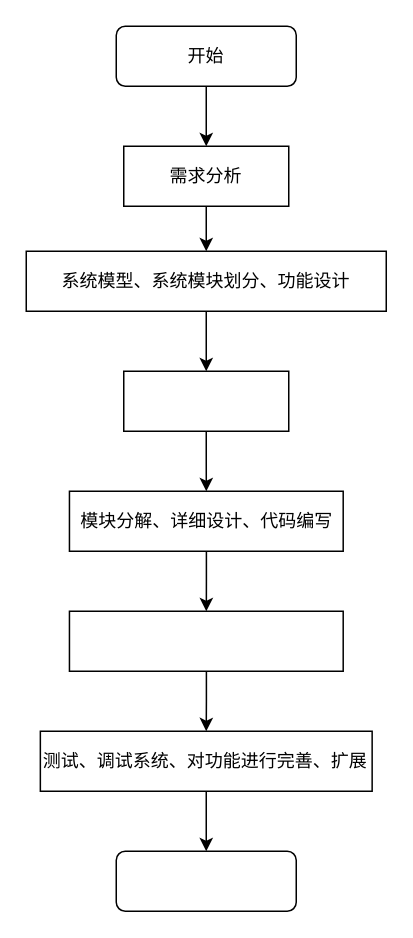
This 413x938 diagram has some shape labels left out. Each missing label, with the centre of its shape:
"各模块功能独立设计及整合" goes at (205,640).
"数据库建模" goes at (205,400).
"结束" goes at (205,880).
